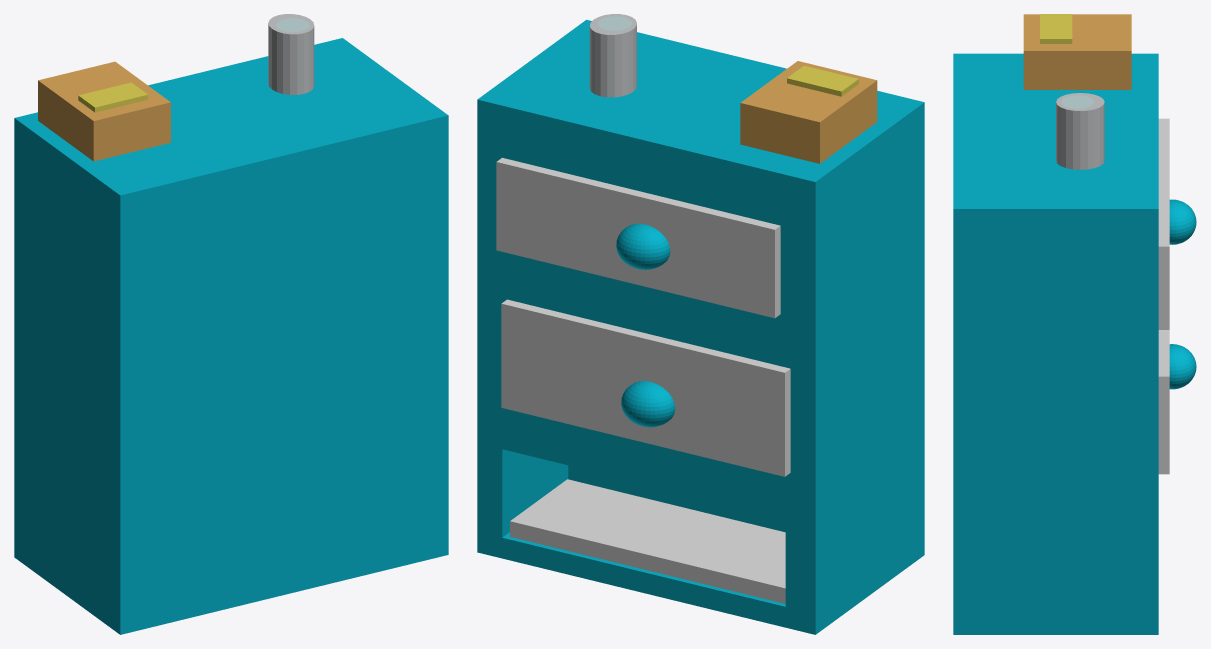
The model's file is PRO-C149_ SIDE TABLE MODEL.glb.
3 views of the same model, side by side, from view 1: azimuth 30°, elevation 25°; view 2: azimuth 150°, elevation 25°; view 3: azimuth 270°, elevation 25° (orthographic). The views are drawn at different scales.
Parts seen in each view (by area): view 1: Mesh_Mesh_head_geo.001_lambert2SG.001; view 2: Mesh_Mesh_head_geo.001_lambert2SG.001; view 3: Mesh_Mesh_head_geo.001_lambert2SG.001.
Part boxes in pixels (box(x1,y1,x2,y2)): Mesh_Mesh_head_geo.001_lambert2SG.001: box(14, 14, 448, 634); Mesh_Mesh_head_geo.001_lambert2SG.001: box(477, 14, 924, 634); Mesh_Mesh_head_geo.001_lambert2SG.001: box(953, 14, 1196, 634).
Bounding box in the file's own units: 68 × 100 × 45.
